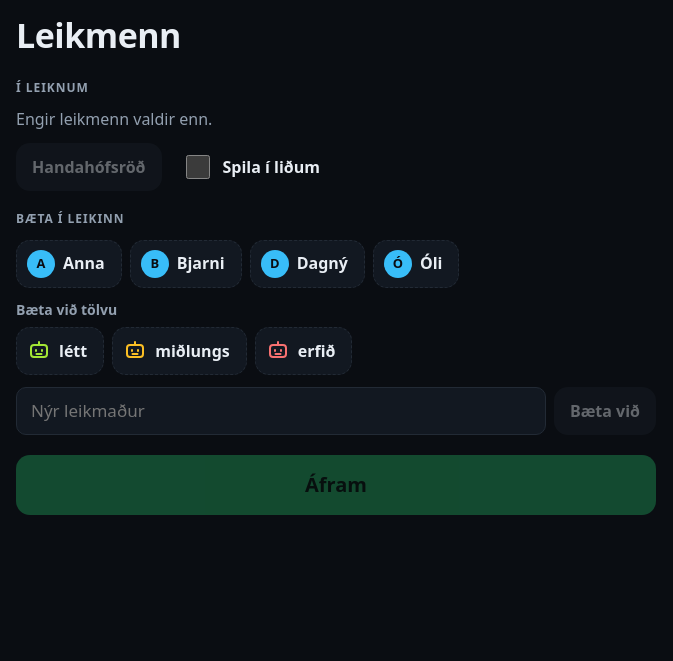
Test: PlayerSelection › blocks continuing until players are in two teams
Click the button with aria-label "Bæta Anna í leikinn": (69, 264) [16,240,122,288]
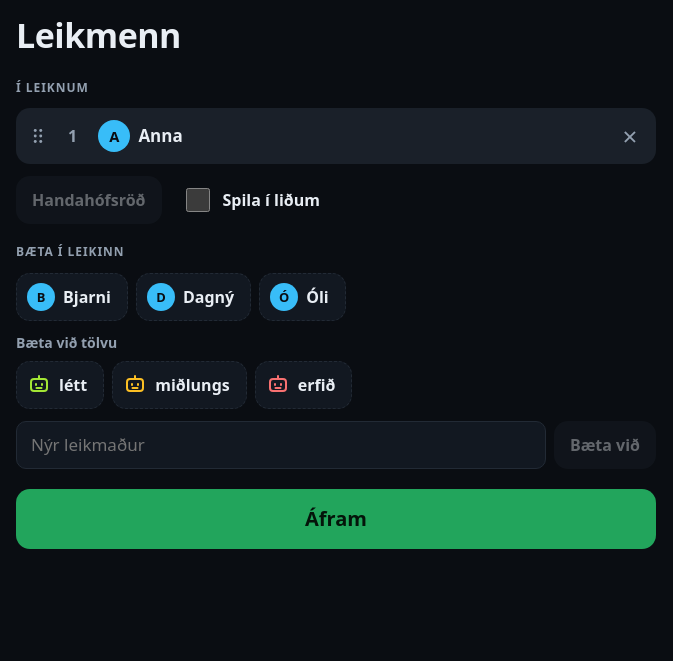
Click the button with aria-label "Bæta Óli í leikinn": (302, 297) [259,273,346,321]
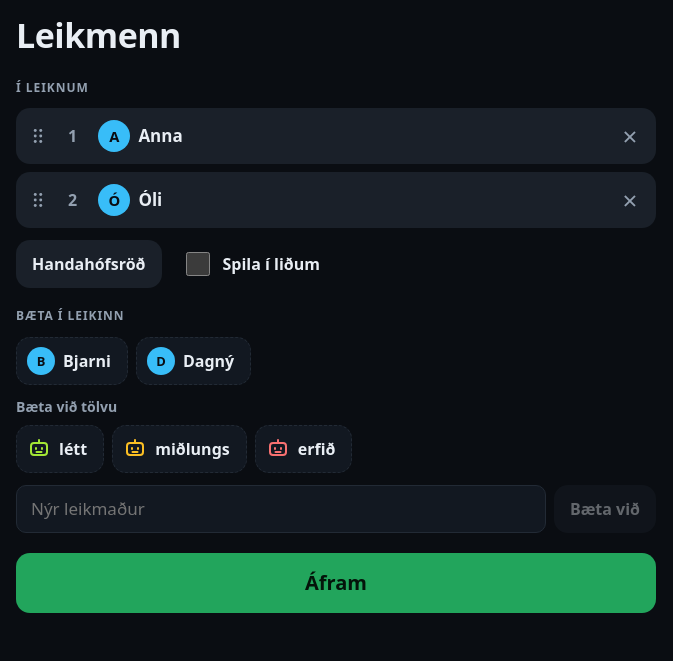
Click the switch labelled "Spila í liðum": (198, 264) [186,252,210,276]
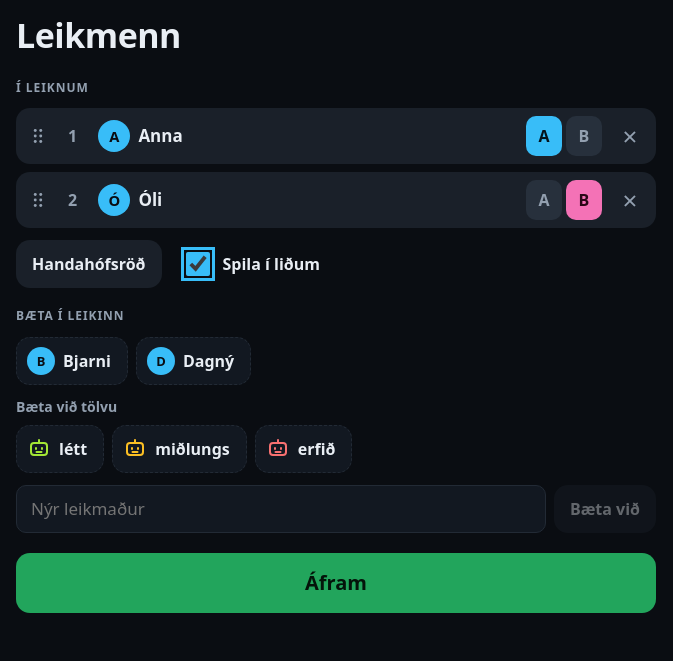
Click the radio button named "Lið A": (544, 200) [526,180,562,220]
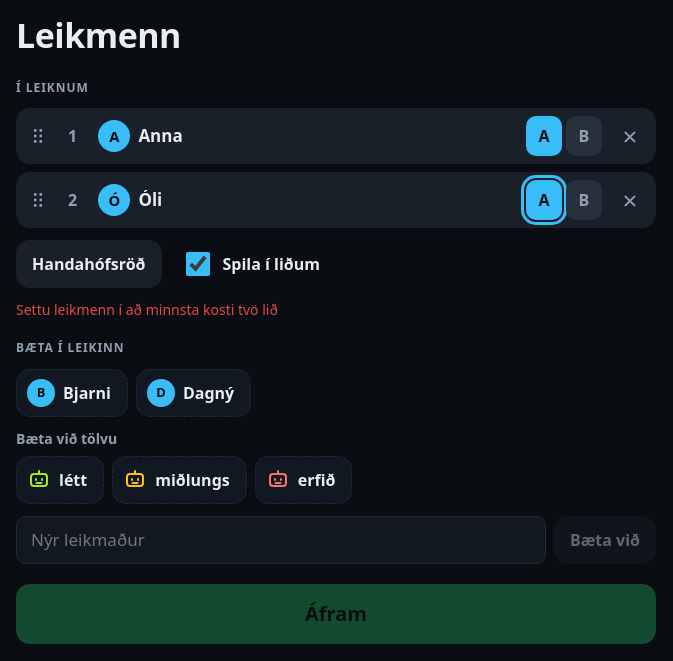
expect the text "Settu leikmenn í að minnsta kosti tvö lið" is shown: met, box [16,300,278,319]
expect the button "Áfram" is disabled: met, box [16,584,656,644]
